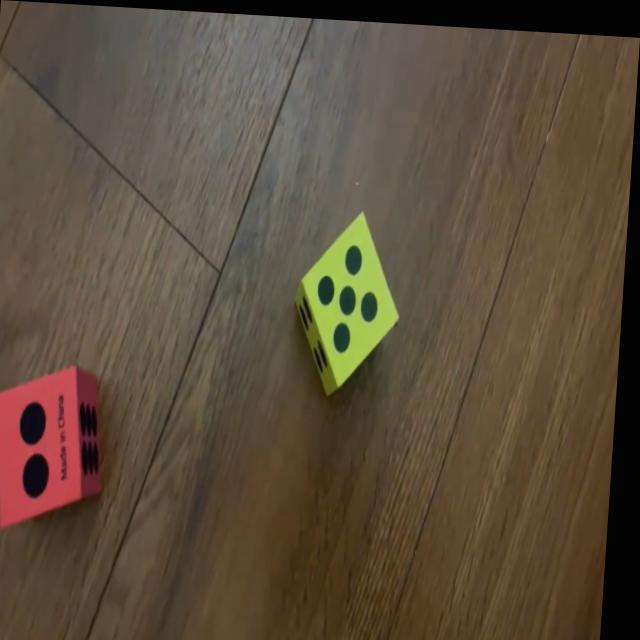red_block: (0, 360, 113, 530)
